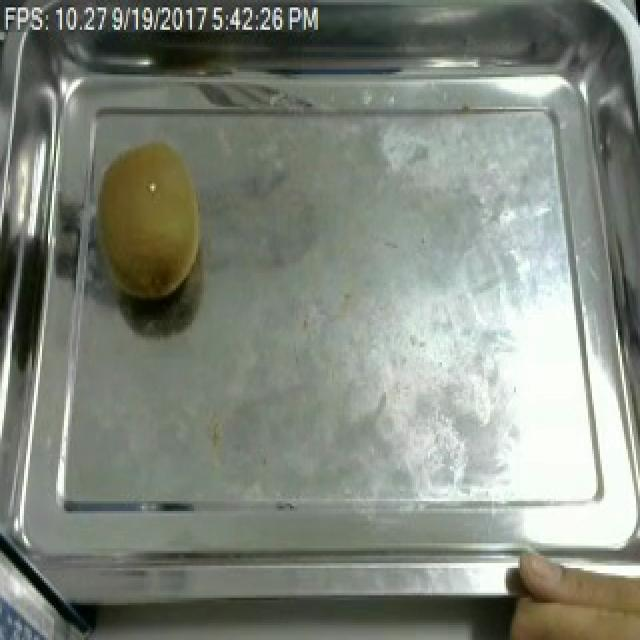Fruit: (80, 134, 212, 315), (496, 541, 640, 640)
